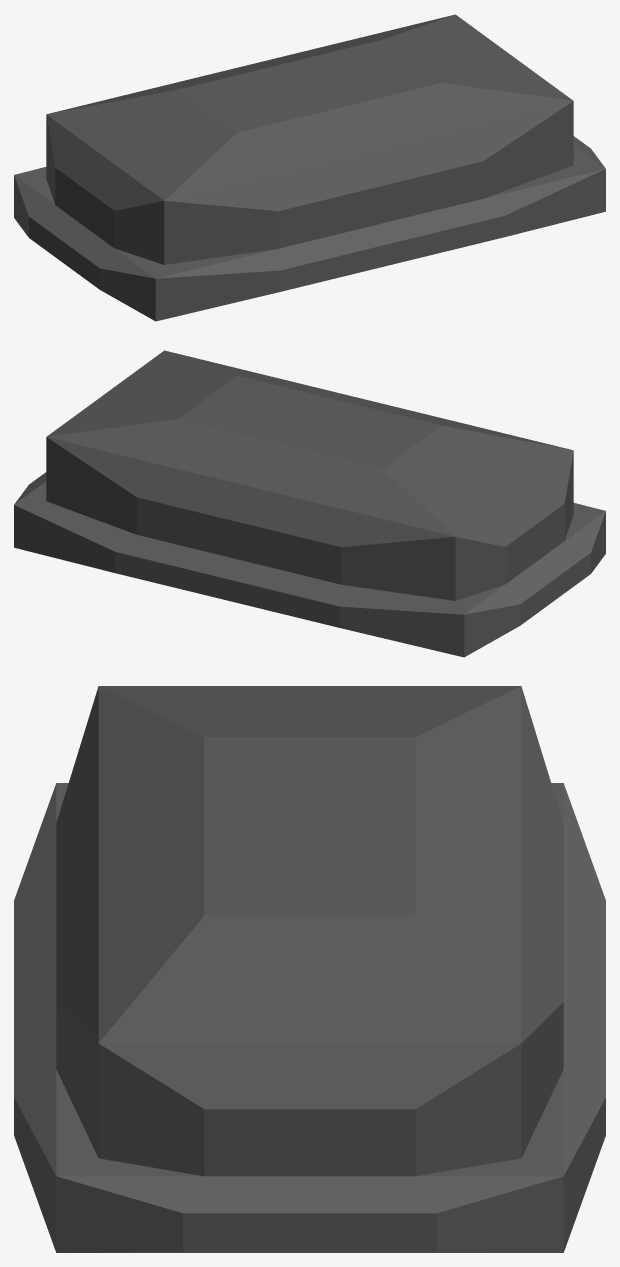
Rendered from light_box.gltf.
The picture shows the model from 3 angles, top to bottom: view 1: azimuth 30°, elevation 25°; view 2: azimuth 150°, elevation 25°; view 3: azimuth 270°, elevation 25°; orthographic projection. The views are drawn at different scales.
Visible parts, largest first — view 1: cuboid (×2); view 2: cuboid (×2); view 3: cuboid (×2).
Part boxes in pixels (bbox=[...]): cuboid (×2): bbox=[14, 14, 605, 321]; cuboid (×2): bbox=[14, 350, 605, 657]; cuboid (×2): bbox=[14, 686, 605, 1252].
Size of the model in its own units: 0.15 by 0.0375 by 0.0875.
Materials: 1 (1 with a texture image).
